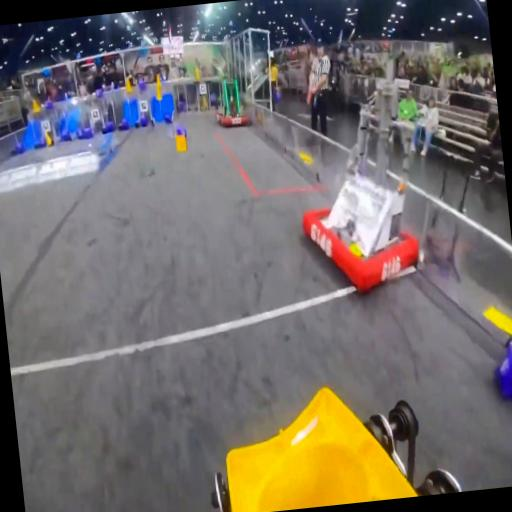robot: (288, 75, 425, 301), (210, 74, 250, 130)
